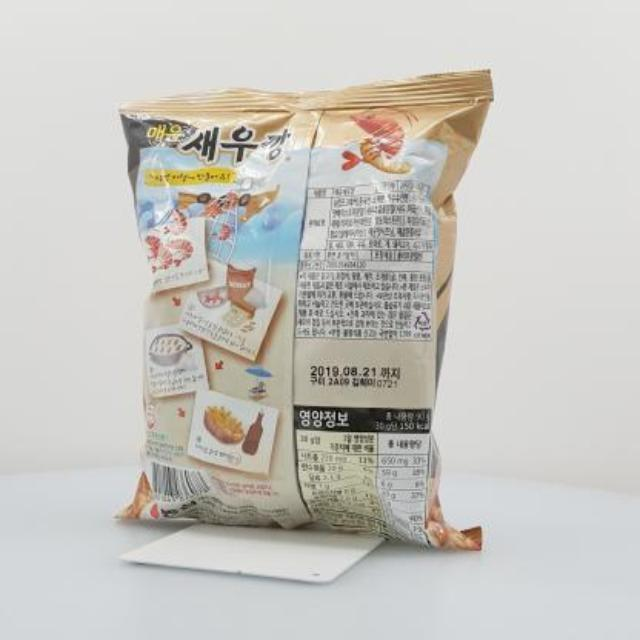snack_bag: (103, 55, 513, 562)
